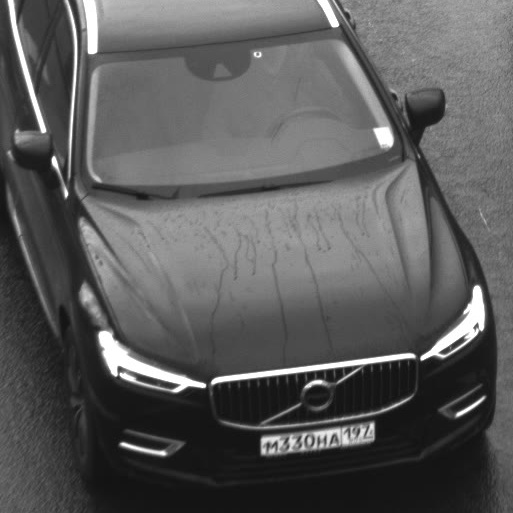plate: (249, 408, 385, 461)
